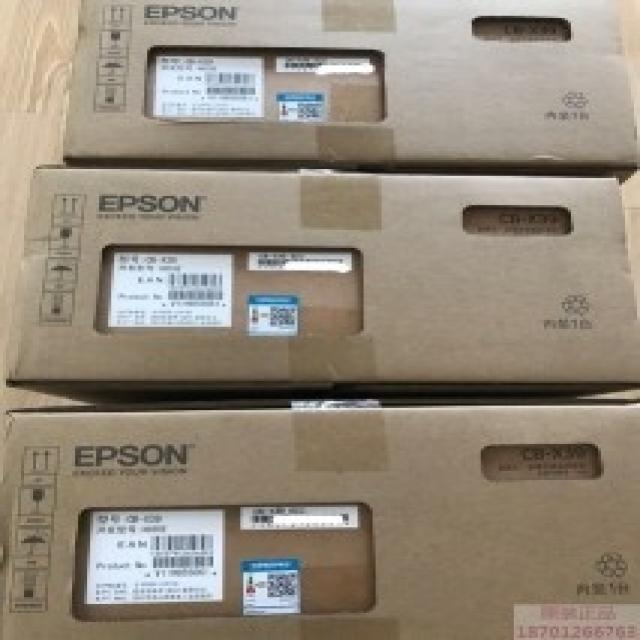box: (8, 164, 637, 404), (0, 401, 637, 635), (58, 1, 637, 187)
